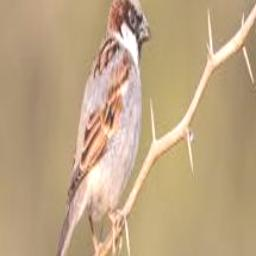Sparrow: (45, 0, 151, 256)
